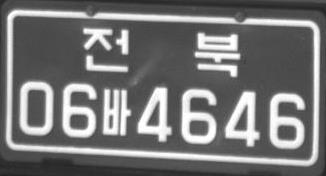0: (19, 79, 54, 136)
4: (137, 86, 172, 142), (225, 90, 259, 147)
6: (180, 88, 217, 145), (268, 93, 305, 149), (61, 82, 96, 137)
바: (102, 88, 131, 135)
전북_D: (82, 27, 240, 77)
